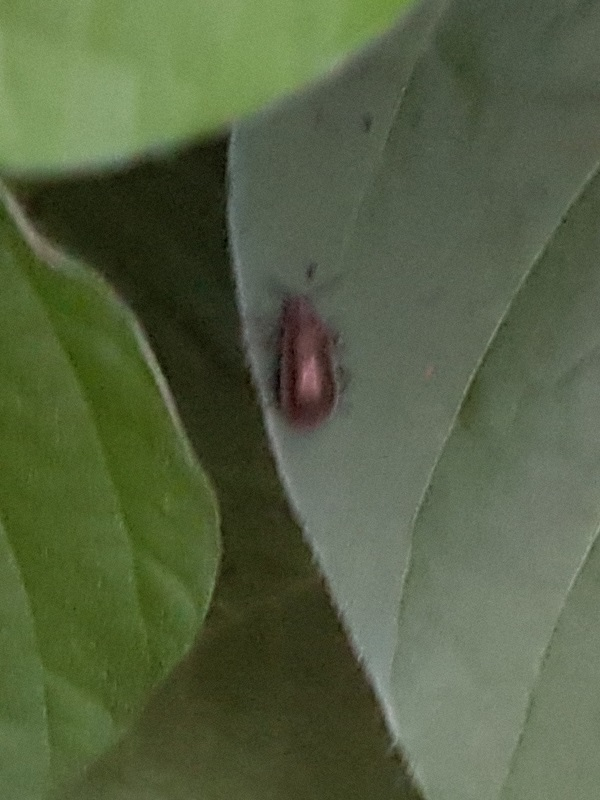Lagria_villosa: (215, 246, 384, 450)
